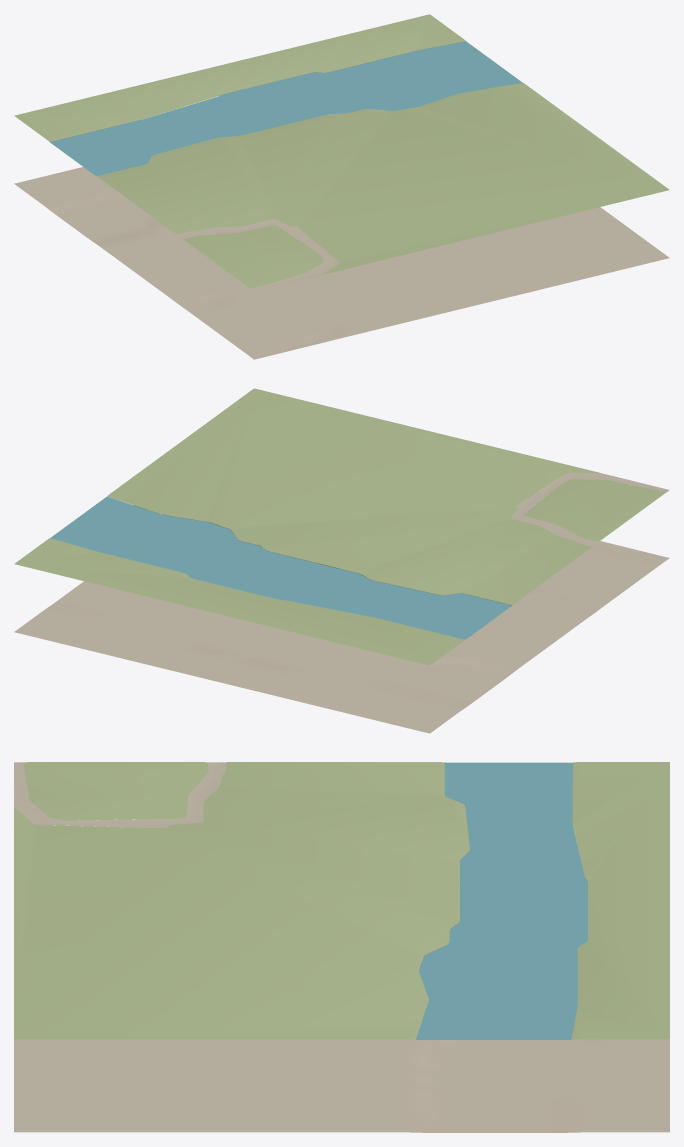
3 views of the same model, one above another, from view 1: azimuth 30°, elevation 25°; view 2: azimuth 150°, elevation 25°; view 3: azimuth 270°, elevation 25° (orthographic). The views are drawn at different scales.
Visible parts, largest first — view 1: s_-4_-7__grass, s_-4_-7__soil, s_-4_-7__water; view 2: s_-4_-7__grass, s_-4_-7__soil, s_-4_-7__water; view 3: s_-4_-7__grass, s_-4_-7__soil, s_-4_-7__water.
Boxes of the visible parts, bbox=[...] form: s_-4_-7__grass: bbox=[14, 14, 669, 288]; s_-4_-7__soil: bbox=[14, 167, 669, 359]; s_-4_-7__water: bbox=[50, 41, 522, 175]; s_-4_-7__grass: bbox=[14, 388, 665, 665]; s_-4_-7__soil: bbox=[14, 472, 669, 733]; s_-4_-7__water: bbox=[51, 496, 511, 639]; s_-4_-7__grass: bbox=[14, 762, 669, 1039]; s_-4_-7__soil: bbox=[14, 762, 669, 1132]; s_-4_-7__water: bbox=[416, 762, 587, 1039].
Size of the model in its own units: 128 by 20.14 by 128.
